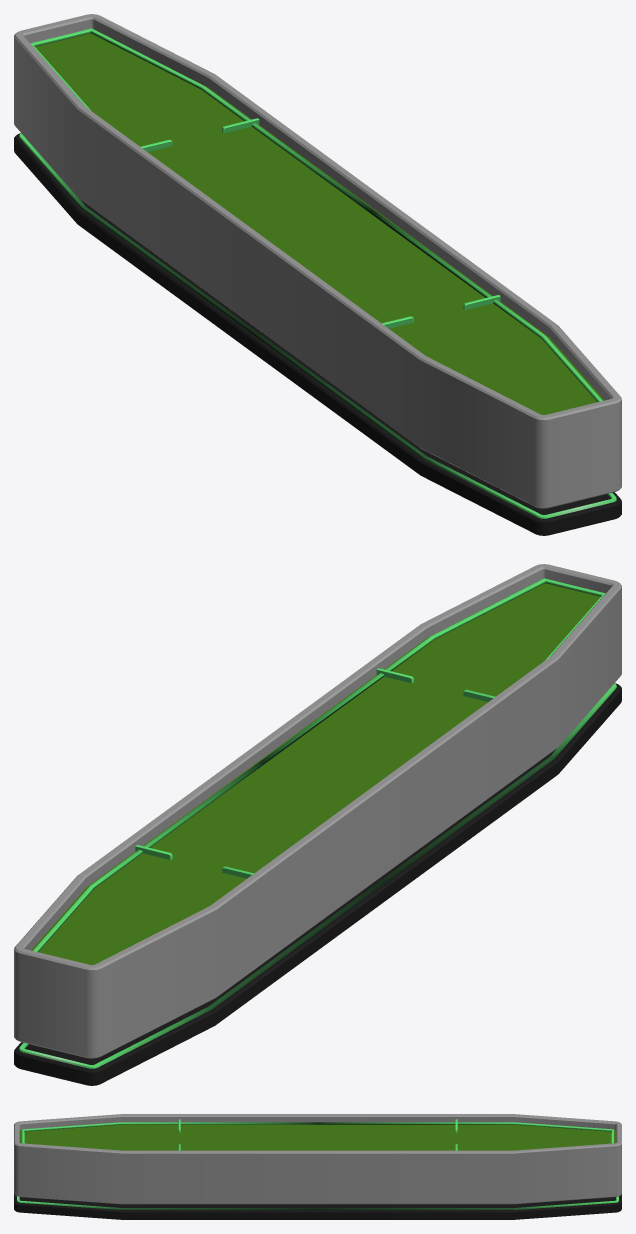
The model's file is W_O_Playground_Glassbed_L0.fbx.
The picture shows the model from 3 angles, top to bottom: view 1: azimuth 30°, elevation 25°; view 2: azimuth 150°, elevation 25°; view 3: azimuth 270°, elevation 25°; orthographic projection. The views are drawn at different scales.
Parts seen in each view (by area): view 1: W_O_Playground_Glassbed_L0; view 2: W_O_Playground_Glassbed_L0; view 3: W_O_Playground_Glassbed_L0.
Part boxes in pixels (box(x1,y1,x2,y2)): W_O_Playground_Glassbed_L0: box(14, 14, 621, 535); W_O_Playground_Glassbed_L0: box(14, 564, 621, 1085); W_O_Playground_Glassbed_L0: box(14, 1114, 621, 1219).
Bounding box in the file's own units: 0.4555 × 3 × 0.369.
